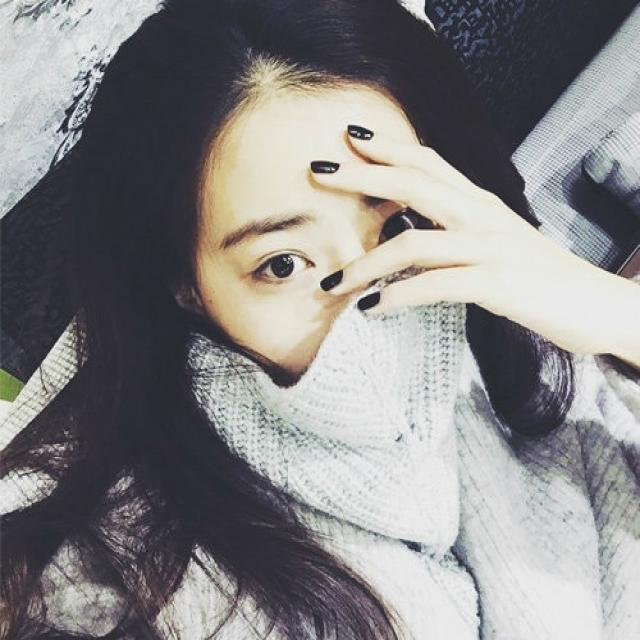mask: (203, 101, 457, 473)
